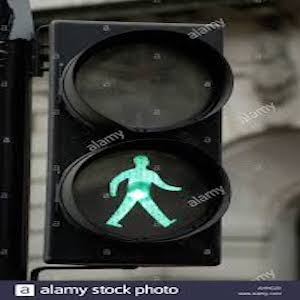green: (108, 153, 184, 232)
